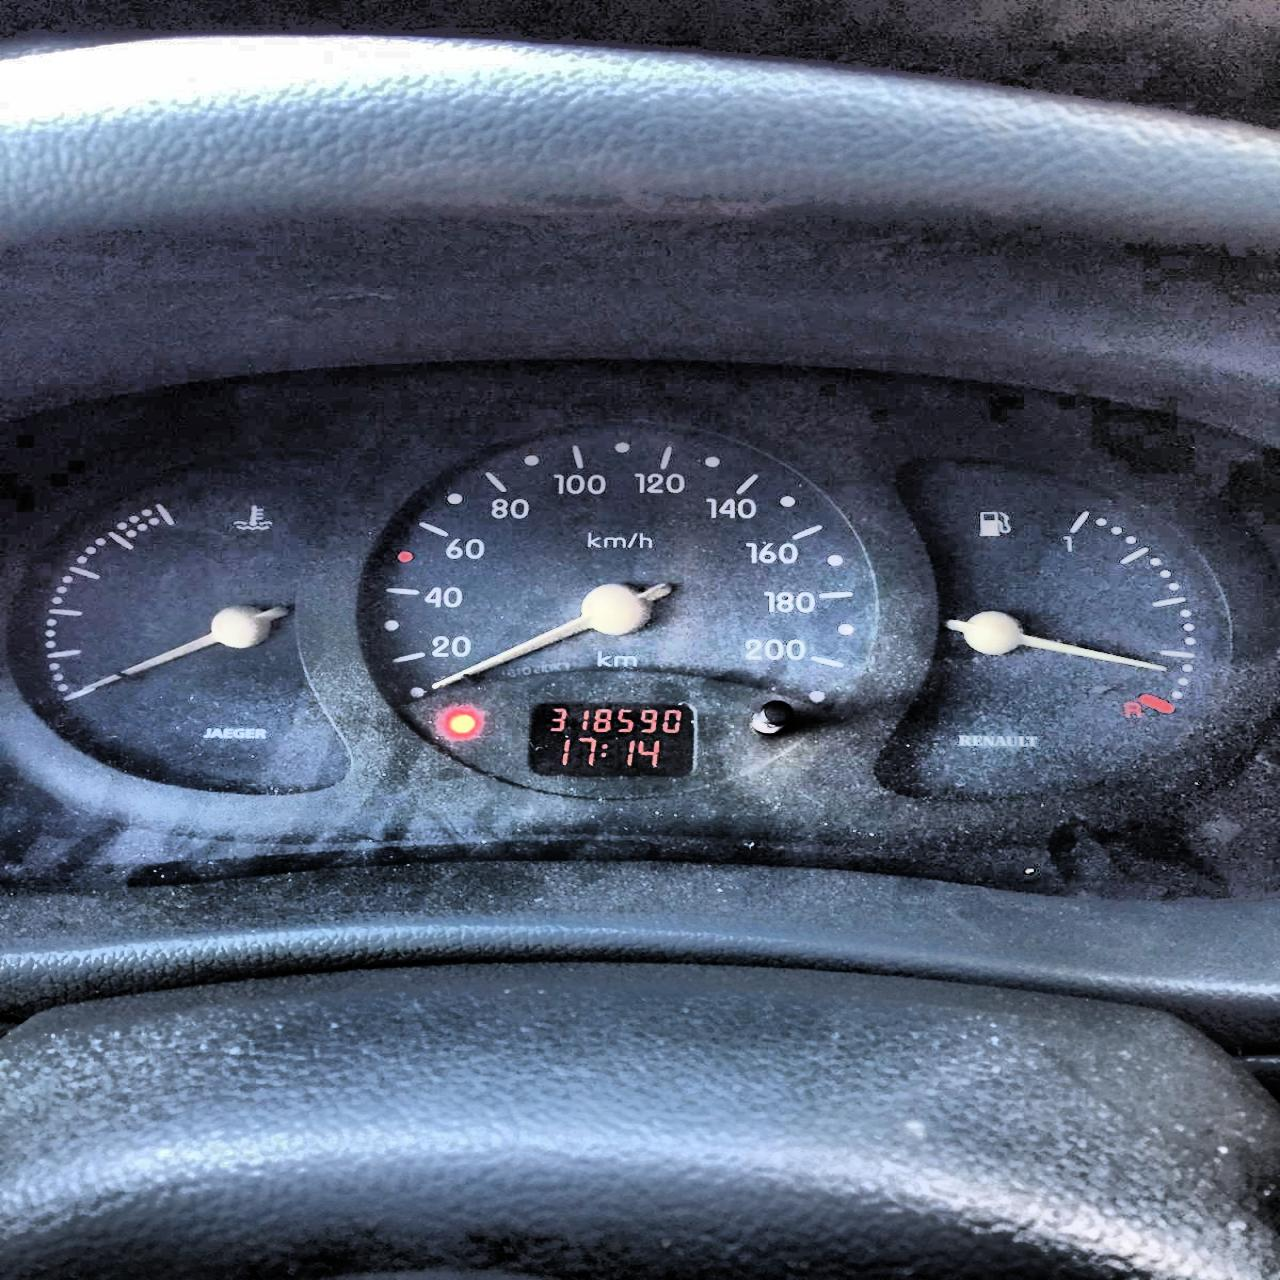0: (661, 709, 681, 733)
1: (625, 740, 635, 767), (560, 738, 570, 765), (580, 709, 587, 730)
3: (549, 707, 566, 731)
4: (638, 740, 659, 767)
5: (615, 709, 633, 731)
7: (577, 736, 595, 765)
8: (592, 707, 610, 731)
9: (639, 709, 658, 733)
X: (598, 742, 607, 757)
odometer: (524, 697, 700, 778)
